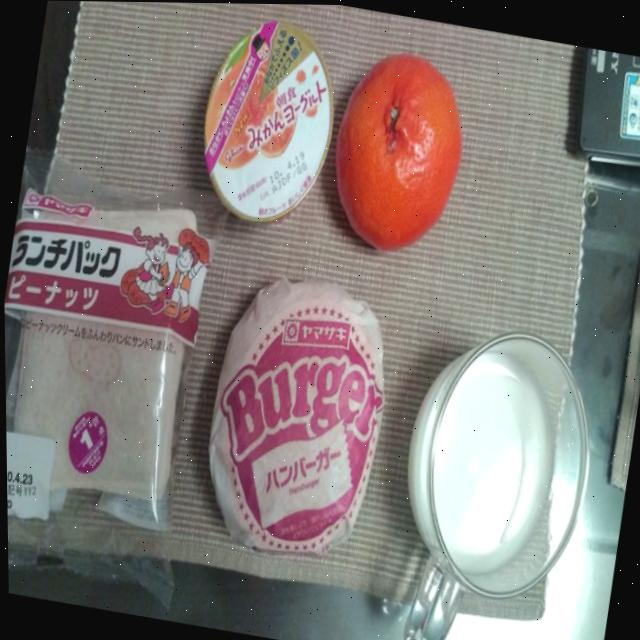汉堡快餐: (183, 262, 412, 571)
